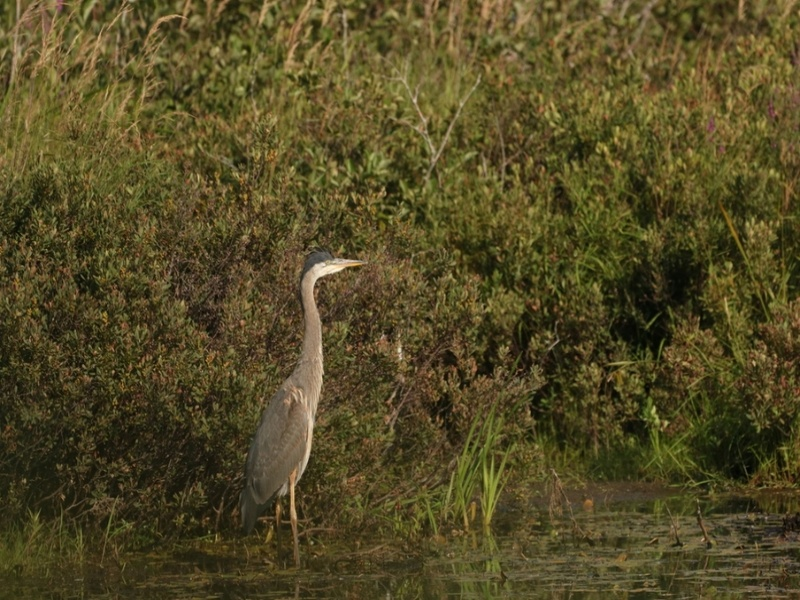heron: (245, 252, 372, 553)
